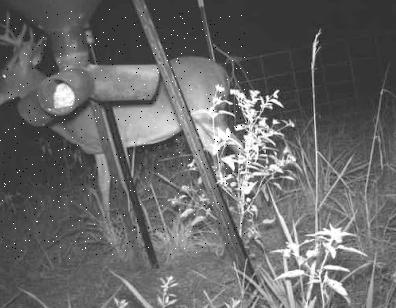Deer: (0, 9, 249, 259)
